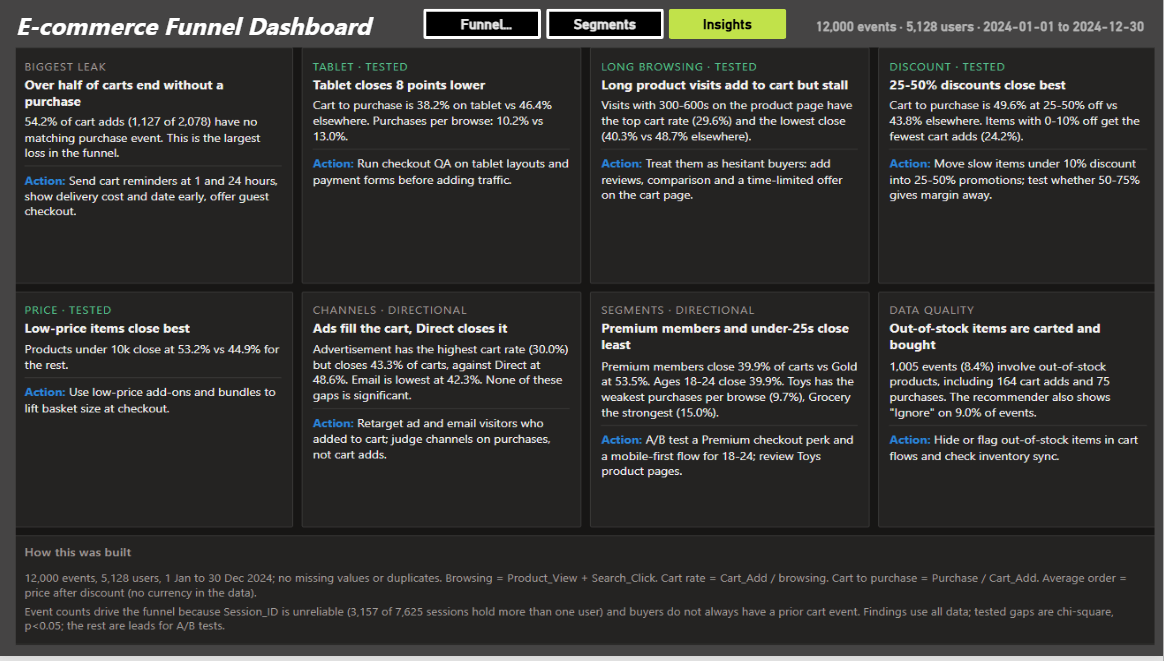

Layout of this report page (visuals, bound fields, positions):
{"tool":"powerbi","page":{"name":"Insights","canvas":[1920,1080],"ordinal":2},"visuals":[{"type":"textbox","title":"E-commerce Funnel Dashboard","box":[30.9,14.4,619.6,63.8],"z":1000},{"type":"textbox","title":"12,000 events · 5,128 users · 2024-01-01 to 2024-12-30","box":[1348.2,30.9,557.8,32.9],"z":2000},{"type":"textbox","box":[1628.1,78.2,277.9,335.5],"z":2004},{"type":"image","box":[30.9,78.2,1875.1,983.9],"z":2005},{"type":"pageNavigator","box":[701.9,14.4,600,50],"z":2006}]}

Visuals, with their boxes in screenshot pixels (x1, y1, x2, y2), scaled from the page's 1920x1080 canvas onto the 1164x661 screenshot:
"E-commerce Funnel Dashboard" textbox: bbox(19, 9, 394, 48)
"12,000 events · 5,128 users · 2024-01-01 to 2024-12-30" textbox: bbox(817, 19, 1156, 39)
textbox: bbox(987, 48, 1156, 253)
image: bbox(19, 48, 1156, 650)
pageNavigator: bbox(426, 9, 789, 39)
